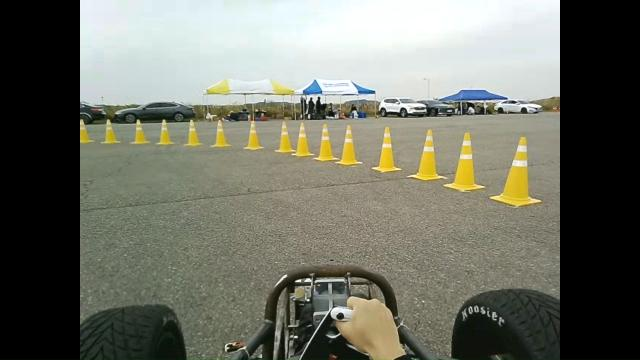yellow cone: (489, 136, 542, 207), (443, 132, 485, 191), (406, 129, 447, 181), (371, 126, 402, 173), (334, 124, 362, 166), (312, 123, 339, 161), (290, 122, 314, 157), (274, 120, 296, 153), (243, 120, 264, 150), (210, 118, 231, 148), (155, 119, 175, 145), (184, 119, 203, 146), (130, 119, 150, 144), (100, 119, 120, 144), (80, 118, 94, 144)
